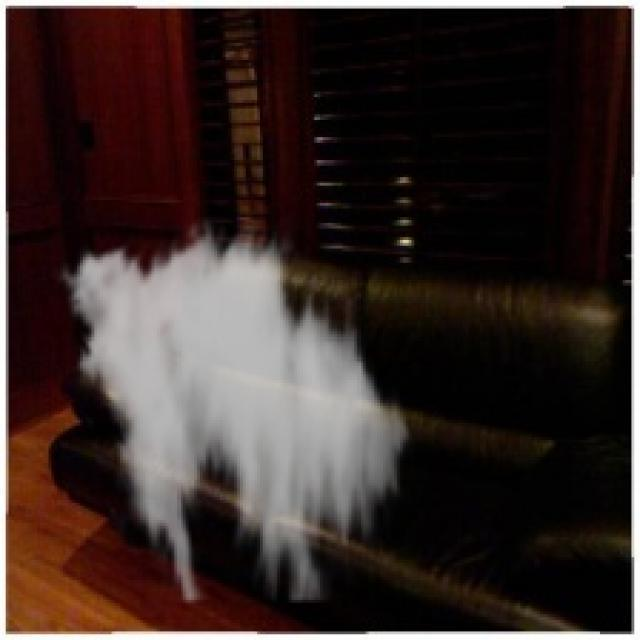Smoke: (51, 217, 420, 603)
